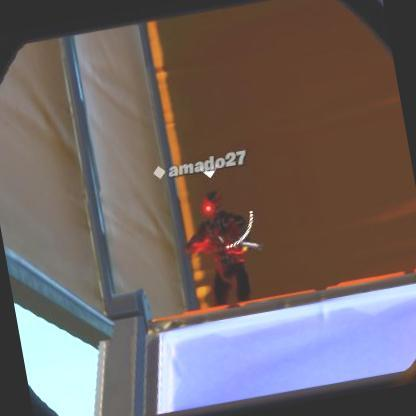Person: (196, 196, 258, 321)
